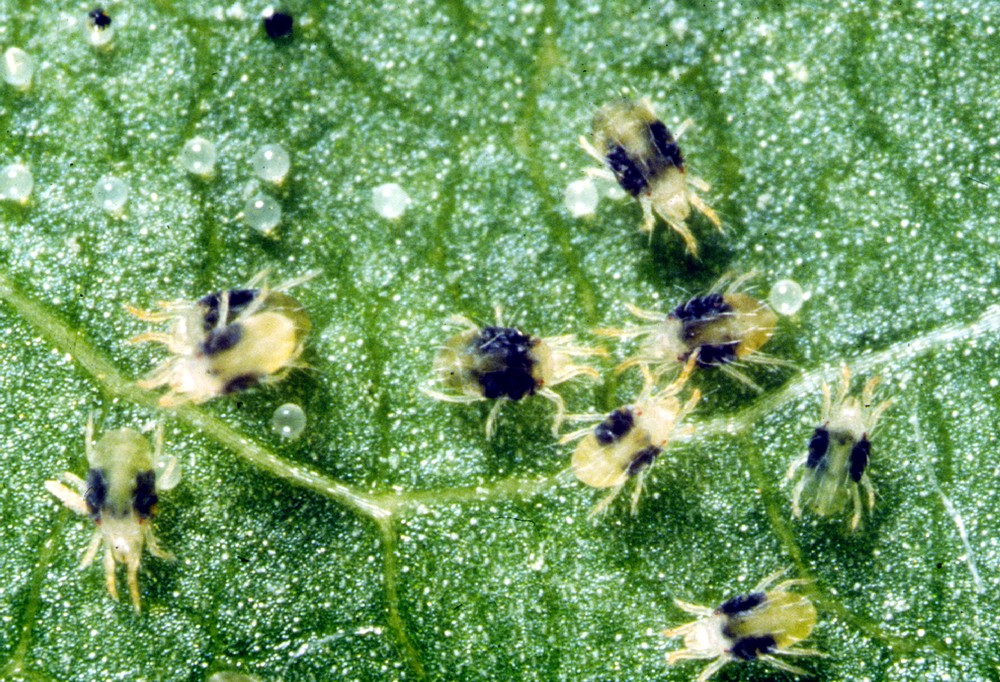Aracnido Rojo: (55, 400, 195, 617), (406, 286, 605, 433), (574, 89, 738, 267), (564, 362, 709, 534), (594, 286, 805, 393), (654, 561, 845, 679), (783, 365, 895, 541), (127, 318, 332, 411), (113, 270, 347, 343)
